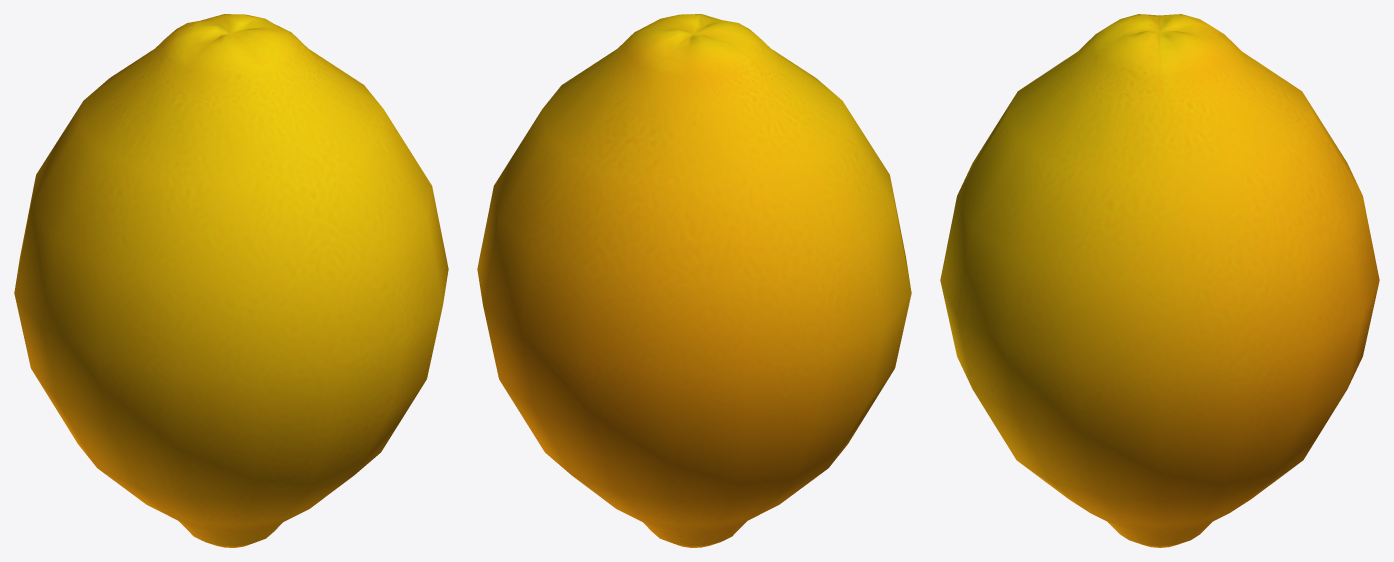
The model's file is Lemon.fbx.
3 views of the same model, side by side, from view 1: azimuth 30°, elevation 25°; view 2: azimuth 150°, elevation 25°; view 3: azimuth 270°, elevation 25° (orthographic).
Parts seen in each view (by area): view 1: Lemon; view 2: Lemon; view 3: Lemon.
Boxes of the visible parts, x1,y1,x2,y2 form: Lemon: (14, 14, 448, 547); Lemon: (477, 14, 911, 547); Lemon: (940, 14, 1379, 547).
Size of the model in its own units: 22.18 by 28.56 by 22.18.
